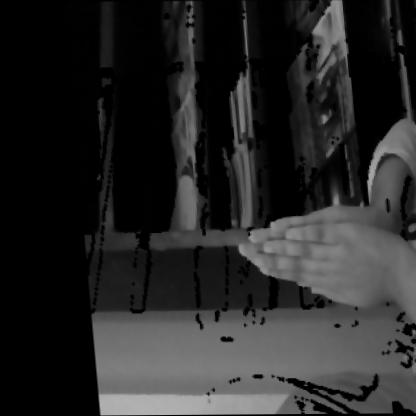namaste: (220, 171, 415, 325)
